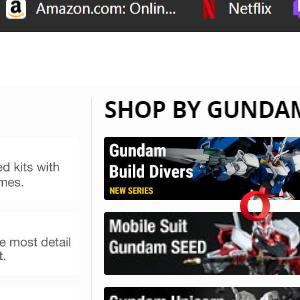opera: (240, 192, 270, 221)
